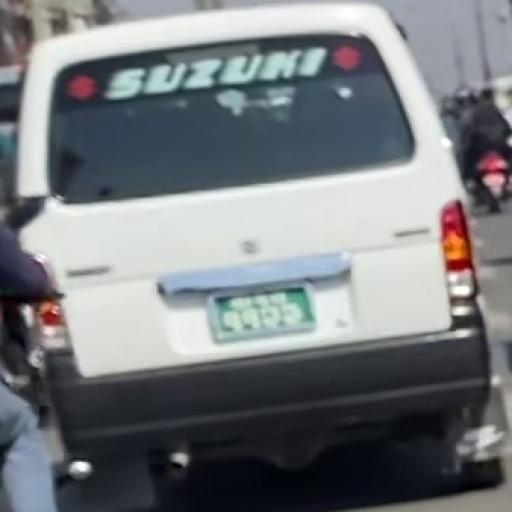license_plate: (209, 280, 317, 343), (211, 287, 314, 333), (510, 15, 512, 15)
